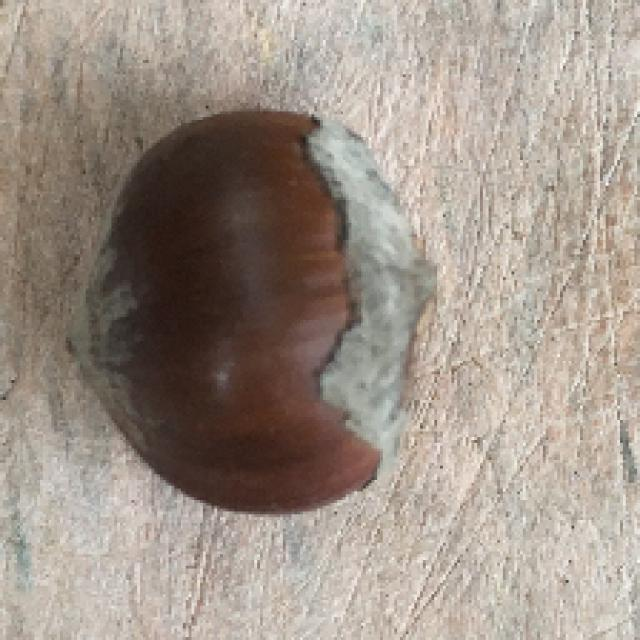damagedHazelnut: (77, 97, 438, 520)
